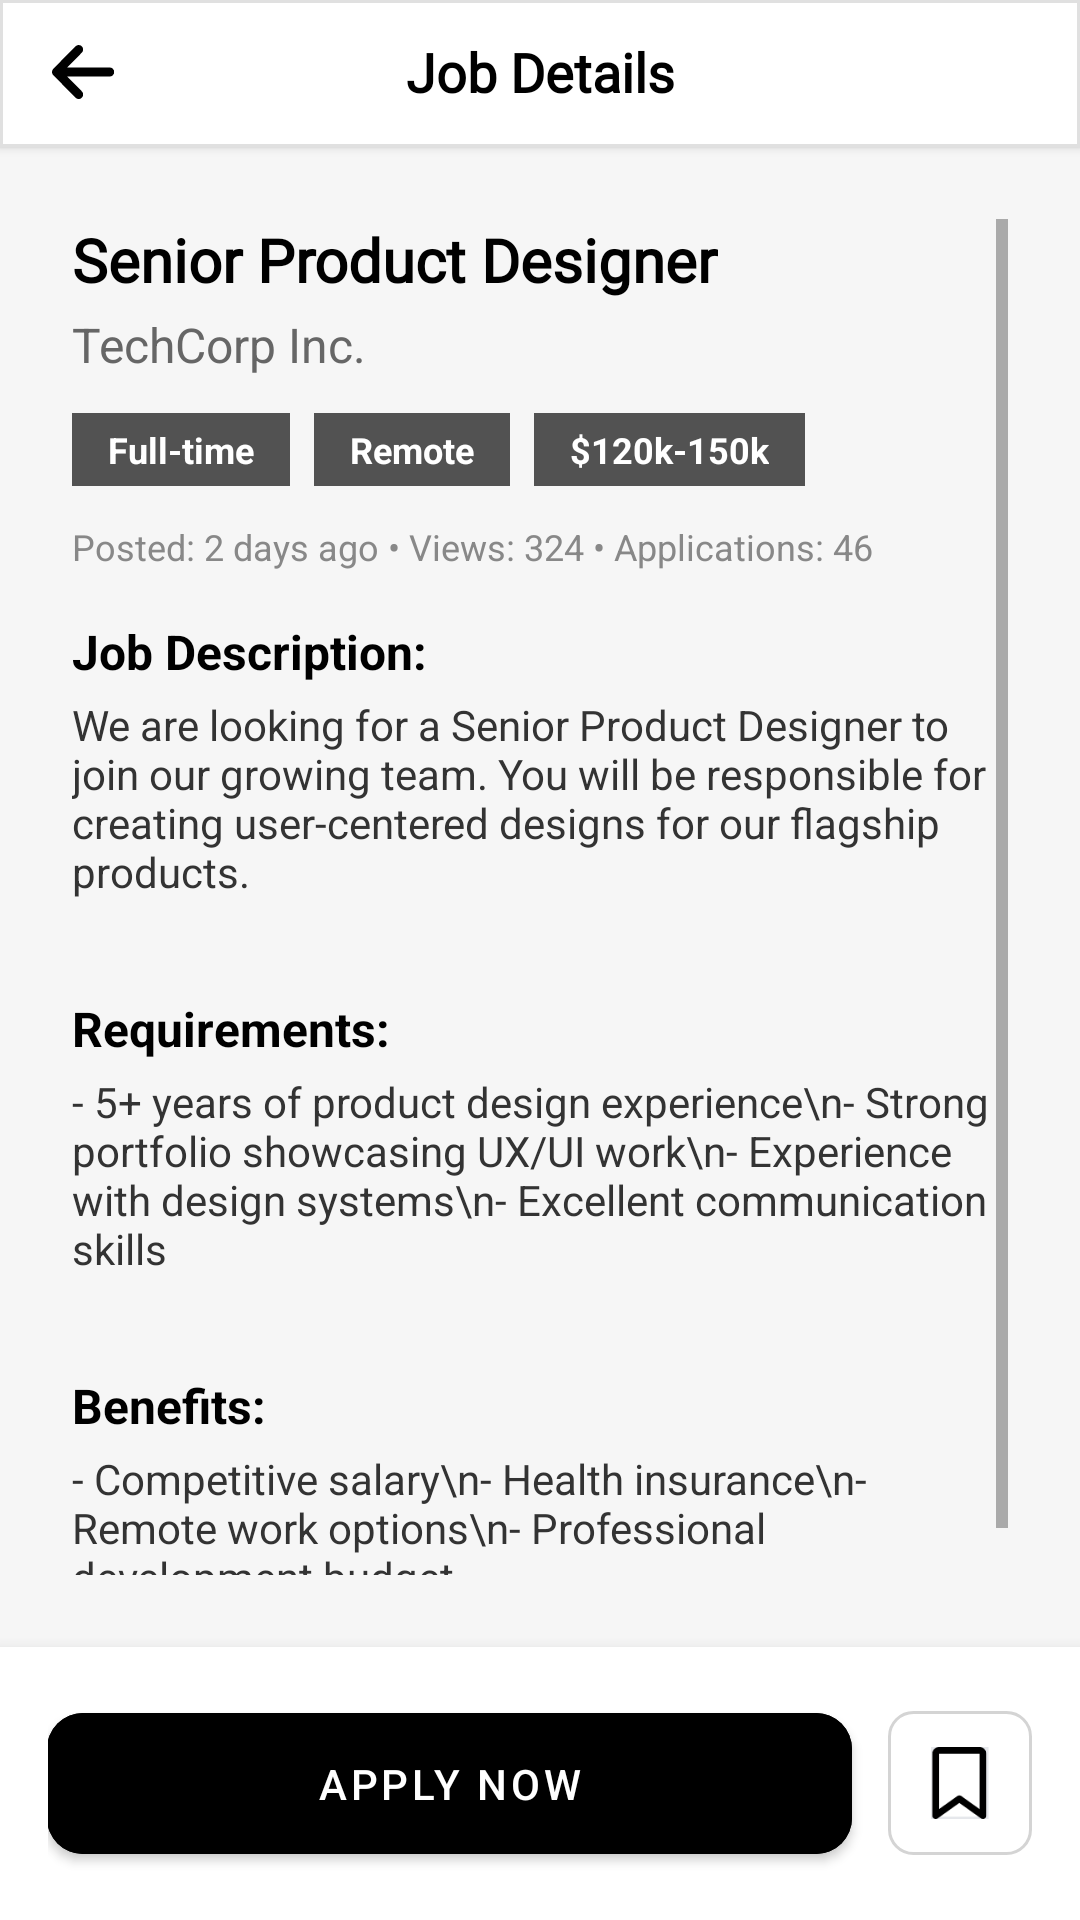

Icon bounding boxes for this 1080*1920 phone screenshot, format region(x1, y1, x2, y2):
longarrow: region(52, 45, 114, 99)
Save: region(888, 1711, 1032, 1855)
